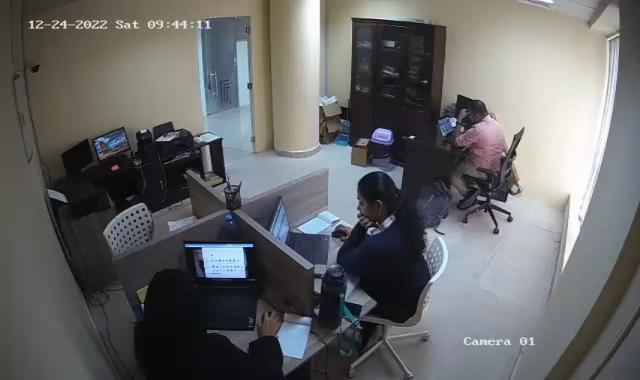no_hairnet: (146, 268, 200, 332), (355, 172, 396, 221), (464, 98, 487, 124)
